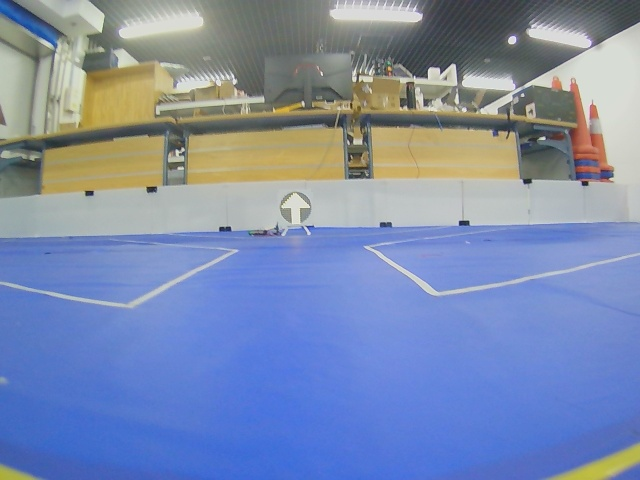straight_yellow: (281, 192, 311, 224)
